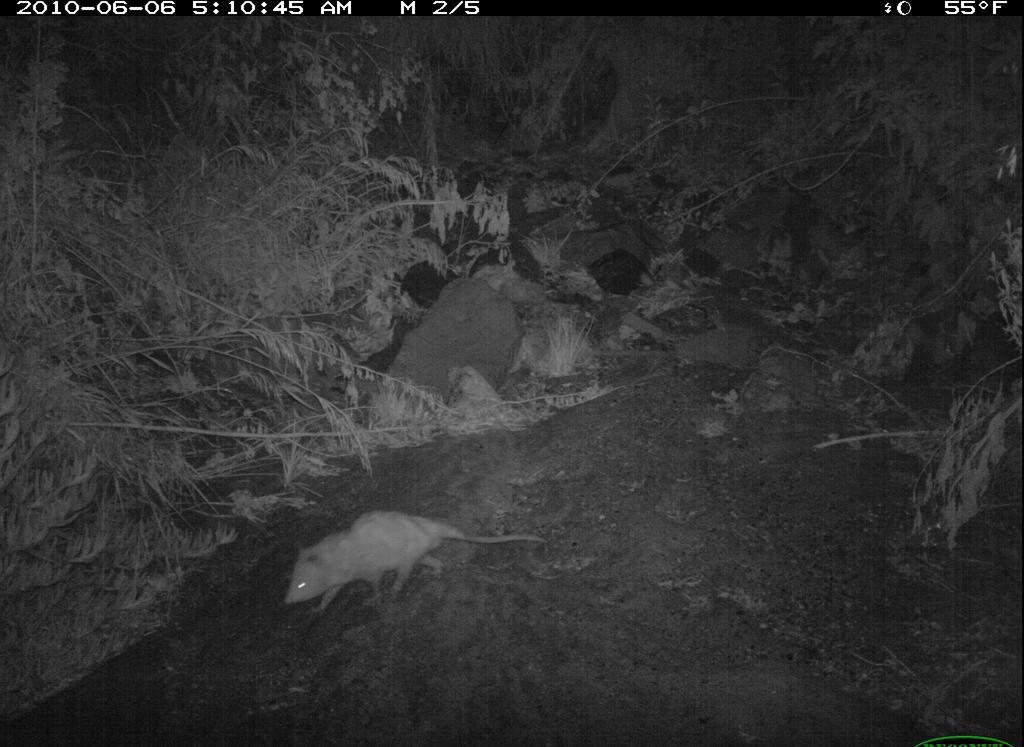opossum: (278, 505, 569, 616)
